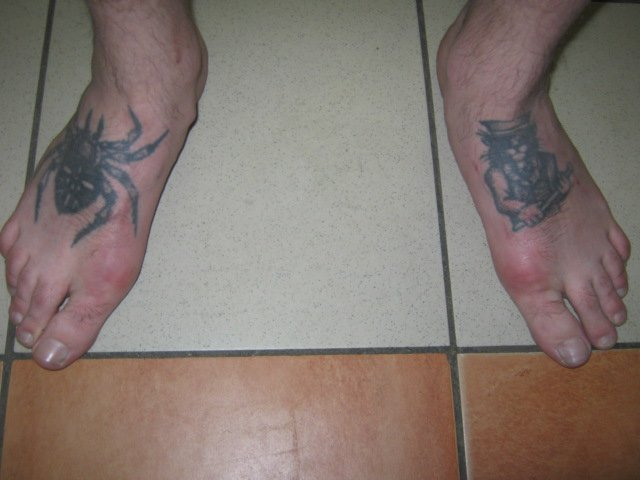tatu8_kot: (460, 112, 587, 230)
